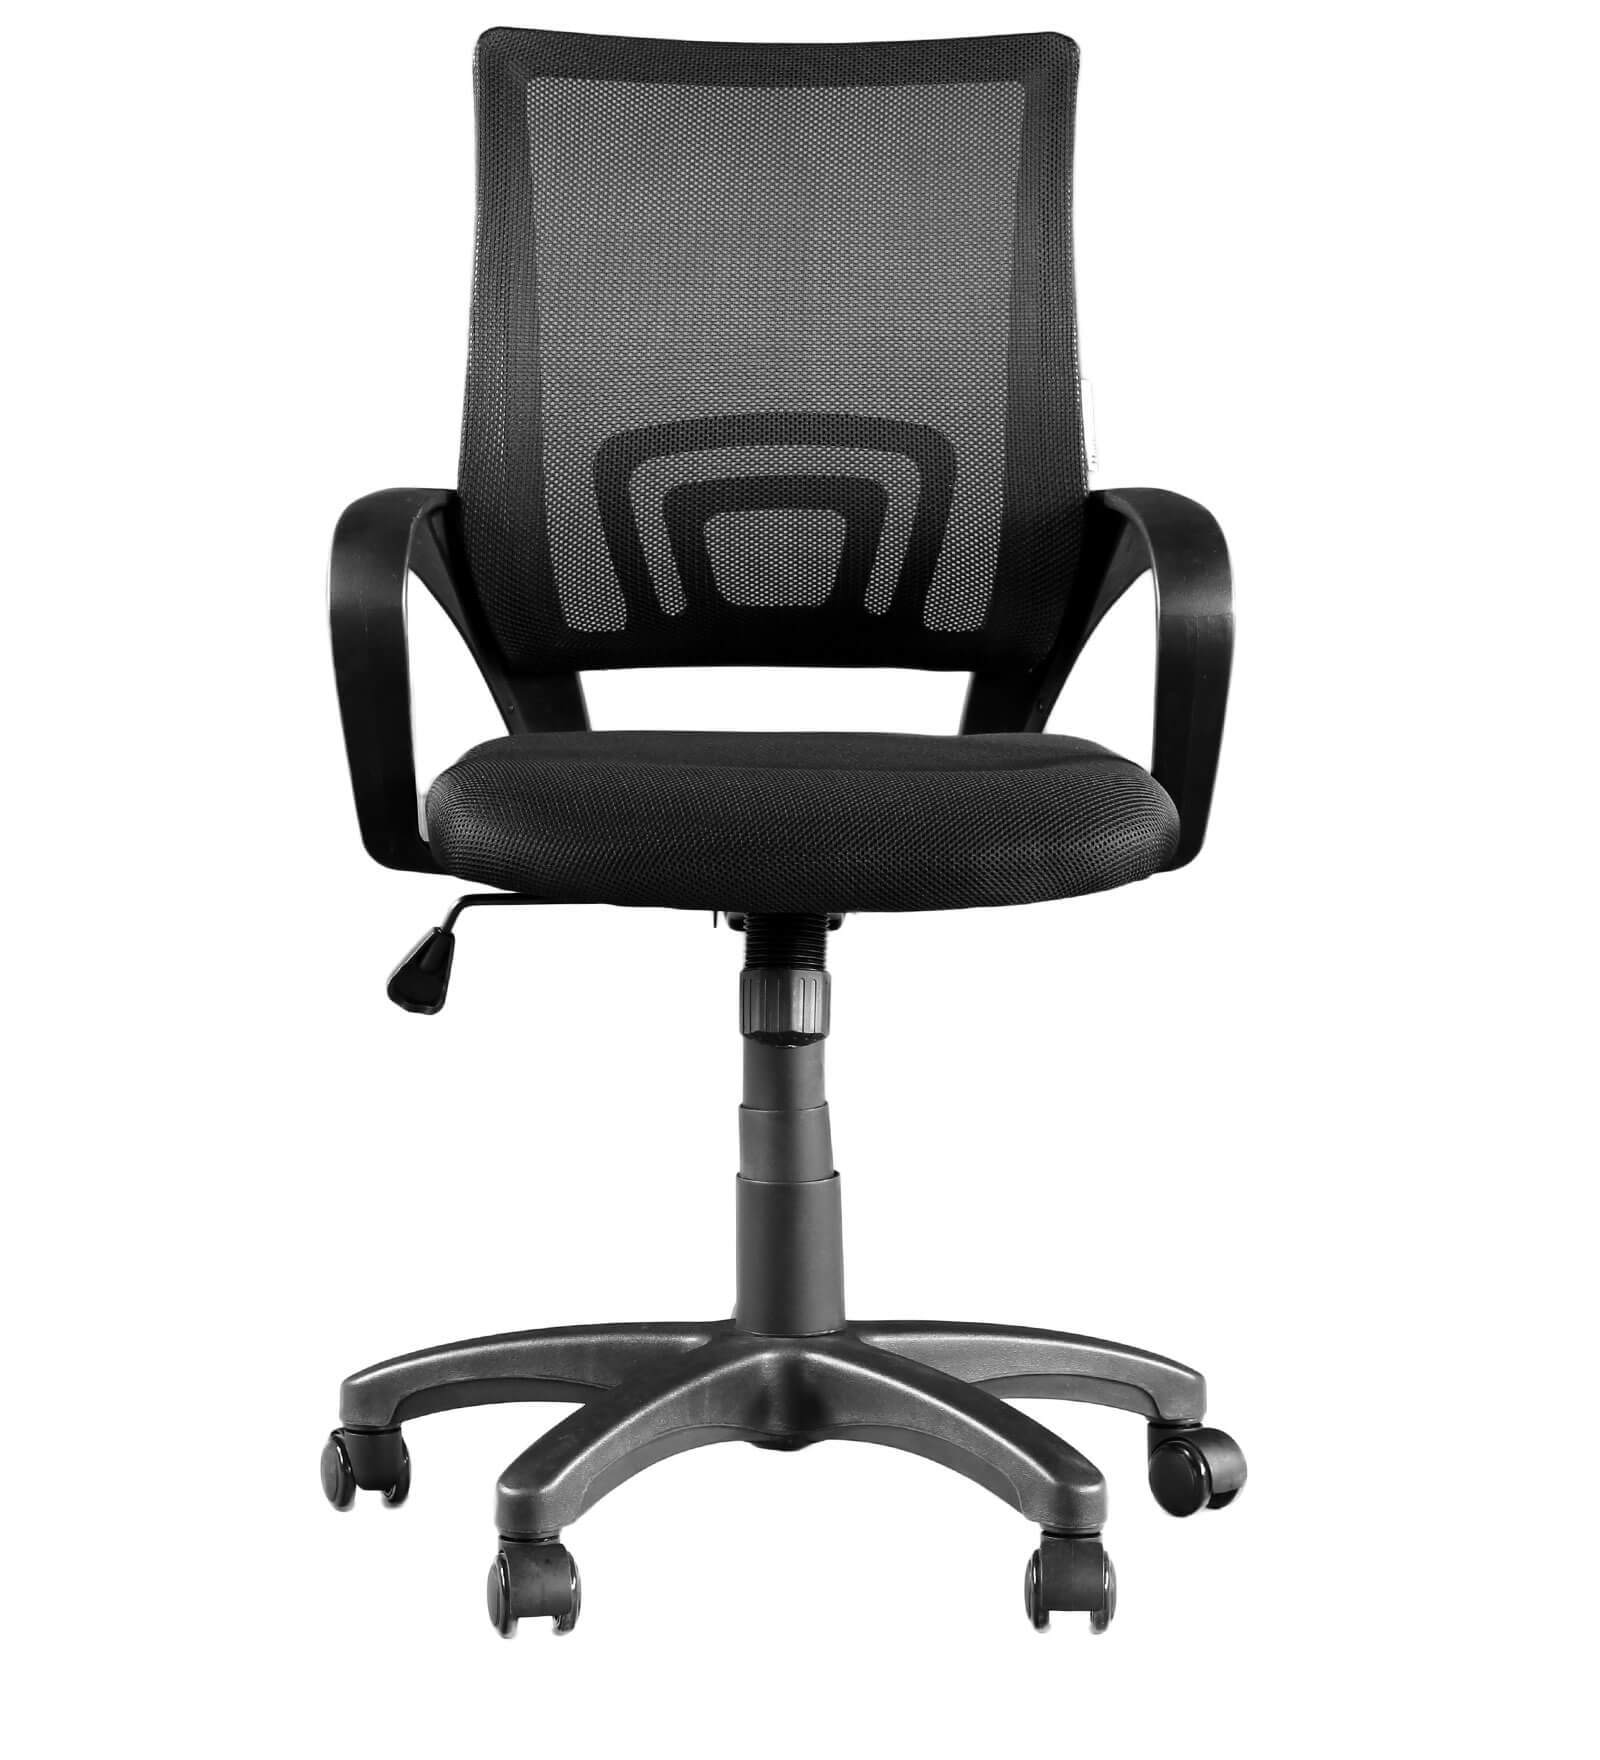Regus Low Back Mesh Chair in Green Colour by Hometown: (326, 11, 1303, 1657)
